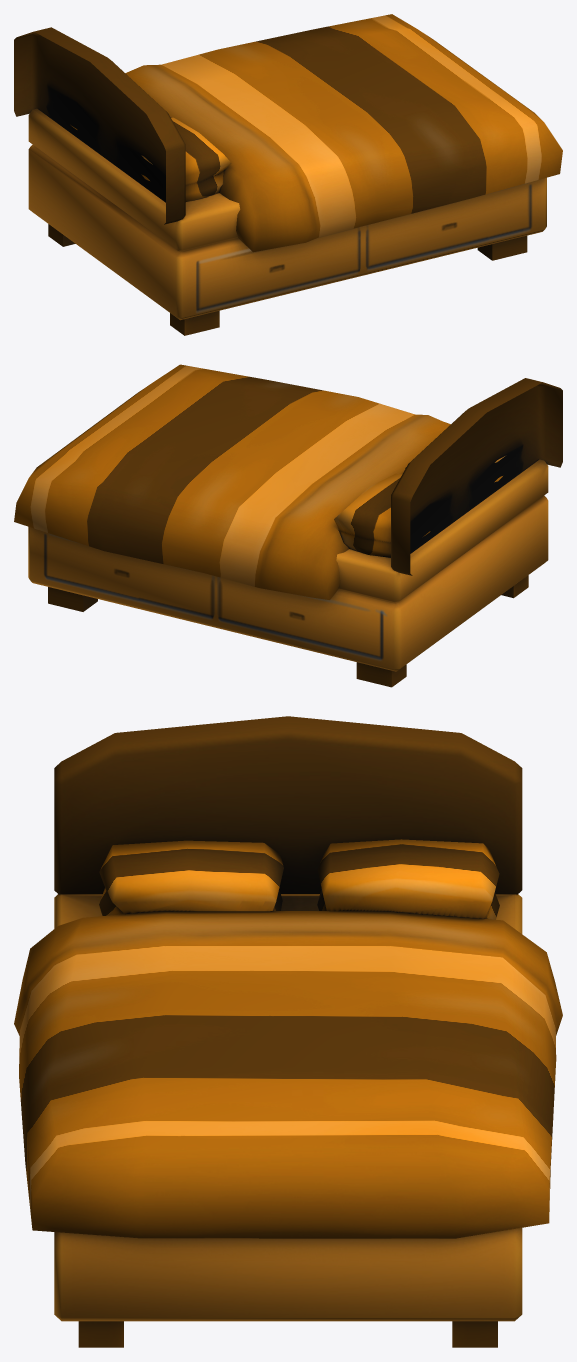
File: DoubleBed.fbx
The picture shows the model from 3 angles, top to bottom: view 1: azimuth 30°, elevation 25°; view 2: azimuth 150°, elevation 25°; view 3: azimuth 270°, elevation 25°; orthographic projection. The views are drawn at different scales.
Visible parts, largest first — view 1: DoubleBed; view 2: DoubleBed; view 3: DoubleBed.
Boxes of the visible parts, <box> form: DoubleBed: <box>14,14,562,335</box>; DoubleBed: <box>14,364,562,687</box>; DoubleBed: <box>14,716,562,1347</box>.
Bounding box in the file's own units: 205 × 113 × 158.
